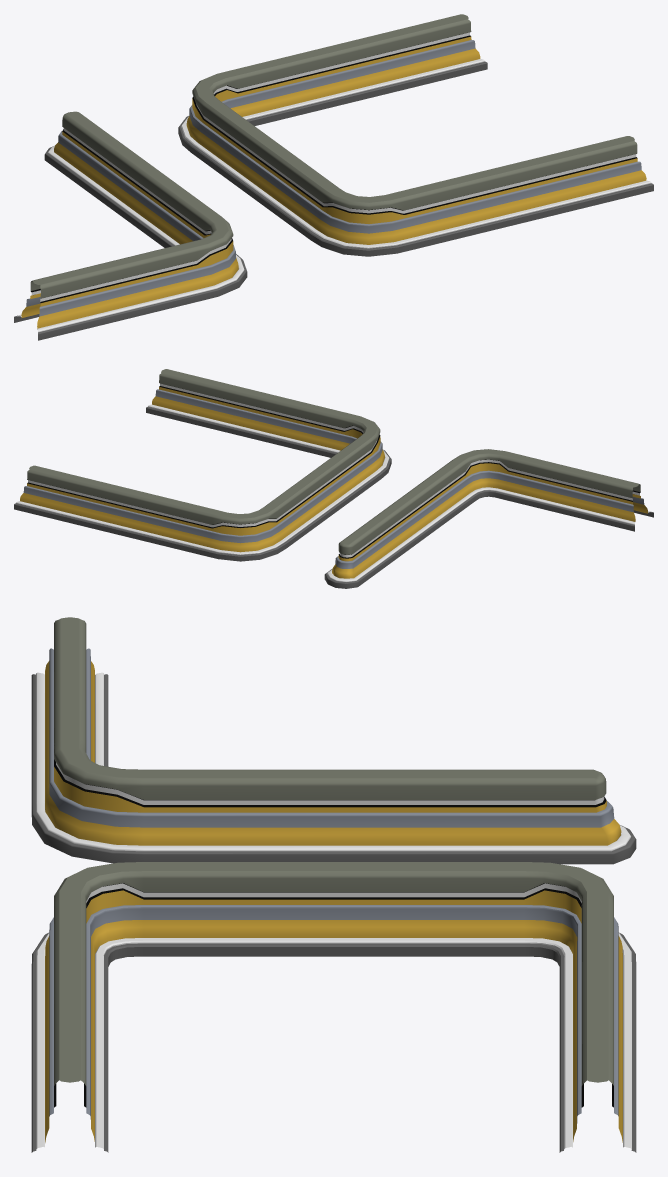
Rendered from Level16_Small_walls.fbx.
3 renders of one model, top to bottom at view 1: azimuth 30°, elevation 25°; view 2: azimuth 150°, elevation 25°; view 3: azimuth 270°, elevation 25°, orthographic. The views are drawn at different scales.
Visible parts, largest first — view 1: Small_wall_L18, Small_wall_L2; view 2: Small_wall_L18, Small_wall_L2; view 3: Small_wall_L18, Small_wall_L2.
Boxes of the visible parts, x1=… form: Small_wall_L18: x1=178, y1=14, x2=653, y2=256; Small_wall_L2: x1=14, y1=111, x2=247, y2=340; Small_wall_L18: x1=14, y1=369, x2=391, y2=561; Small_wall_L2: x1=324, y1=449, x2=653, y2=588; Small_wall_L18: x1=31, y1=862, x2=636, y2=1152; Small_wall_L2: x1=31, y1=617, x2=636, y2=864.
Size of the model in its own units: 507 by 37.08 by 271.
